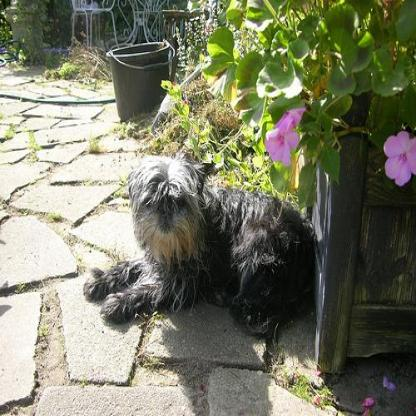affenpinscher: (81, 149, 318, 341)
